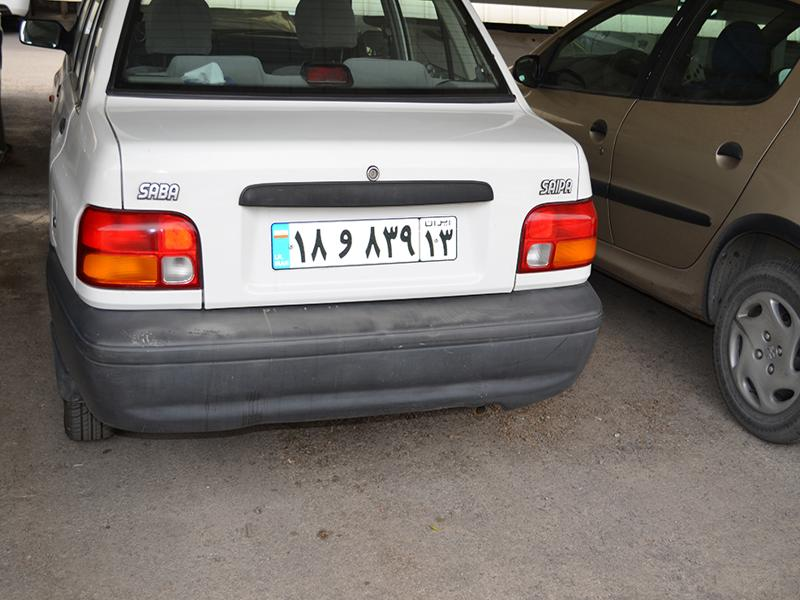Plate: (260, 215, 465, 268)
